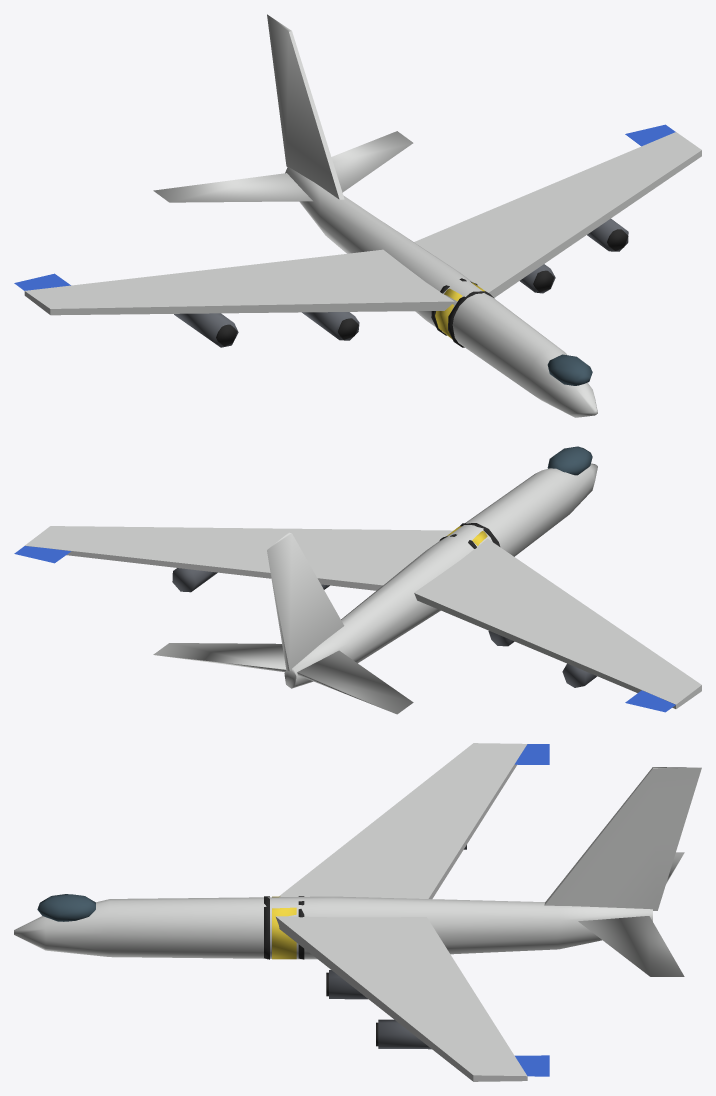
File: nuke_bomber_lod1.glb
3 renders of one model, top to bottom at view 1: azimuth 30°, elevation 25°; view 2: azimuth 150°, elevation 25°; view 3: azimuth 270°, elevation 25°, orthographic. The views are drawn at different scales.
Parts seen in each view (by area): view 1: body; view 2: body; view 3: body.
Boxes of the visible parts, x1,y1,x2,y2 form: body: (14,14,701,417); body: (14,446,701,714); body: (14,743,701,1081).
Size of the model in its own units: 16 by 4.25 by 14.
